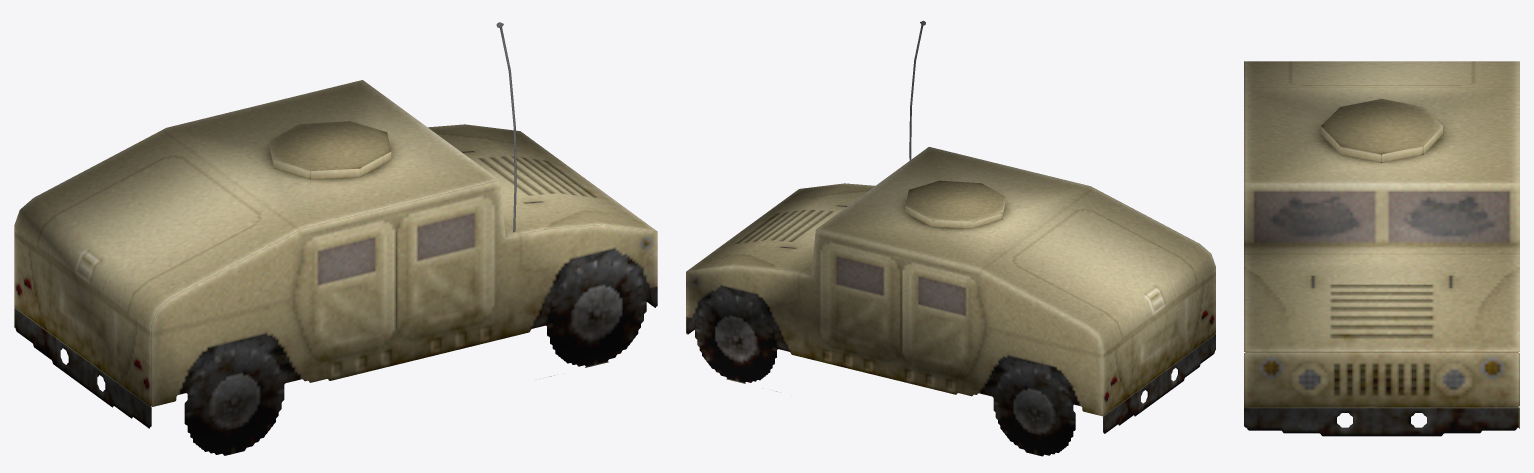
The model's file is MILIT_JE.obj.
The picture shows the model from 3 angles, left to right: view 1: azimuth 30°, elevation 25°; view 2: azimuth 150°, elevation 25°; view 3: azimuth 270°, elevation 25°; orthographic projection. The views are drawn at different scales.
Visible parts, largest first — view 1: humvee; view 2: humvee; view 3: humvee.
Part boxes in pixels (x1,y1,x2,y2): humvee: (14, 22, 657, 455); humvee: (686, 20, 1215, 456); humvee: (1244, 61, 1519, 436).
Size of the model in its own units: 183 by 128 by 86.
